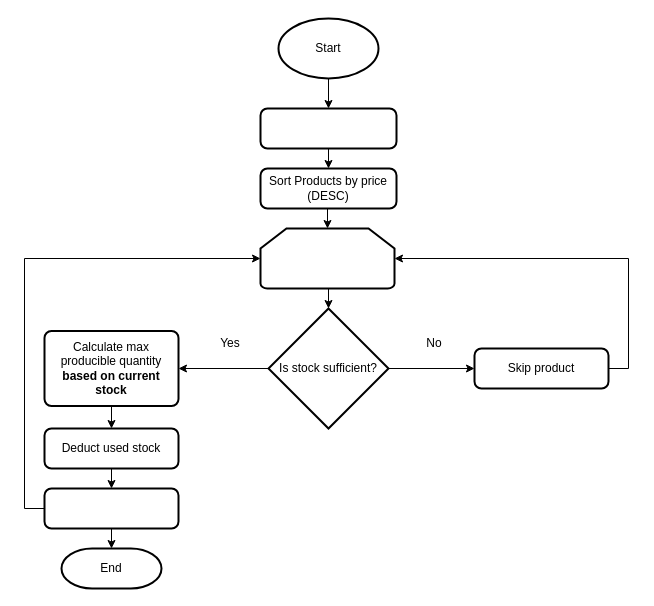
Some shapes in this 654 by 606 pixel diagram are drawn without their labels. The shapes that lost their labels are listed below. From the top down, each one's box as (x1, y1, x2, y2) in pixels, then its label:
(259, 107, 397, 149): Load all Products
(259, 227, 395, 289): Check required RawMaterials
(43, 487, 179, 529): Add product to result list
